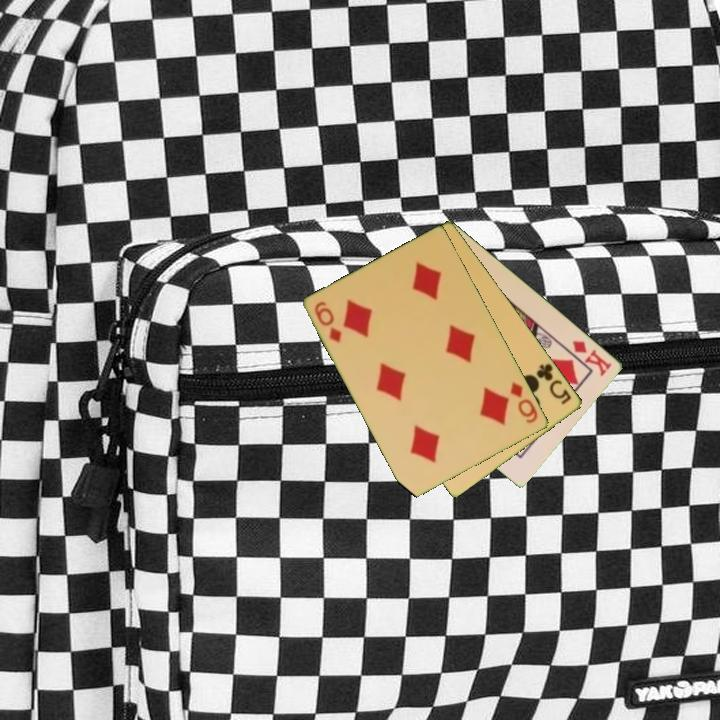5c: (533, 360, 575, 408)
6d: (507, 378, 541, 426), (311, 298, 345, 346)
Kd: (569, 337, 615, 379)
